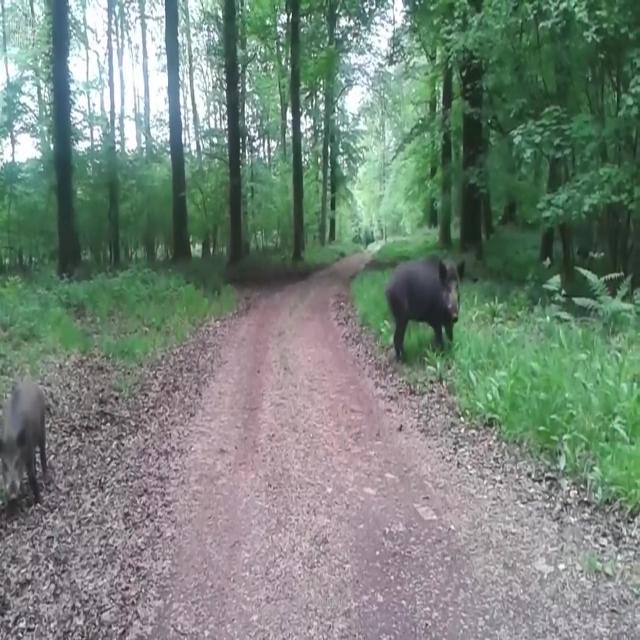pig: (383, 177, 486, 378)
